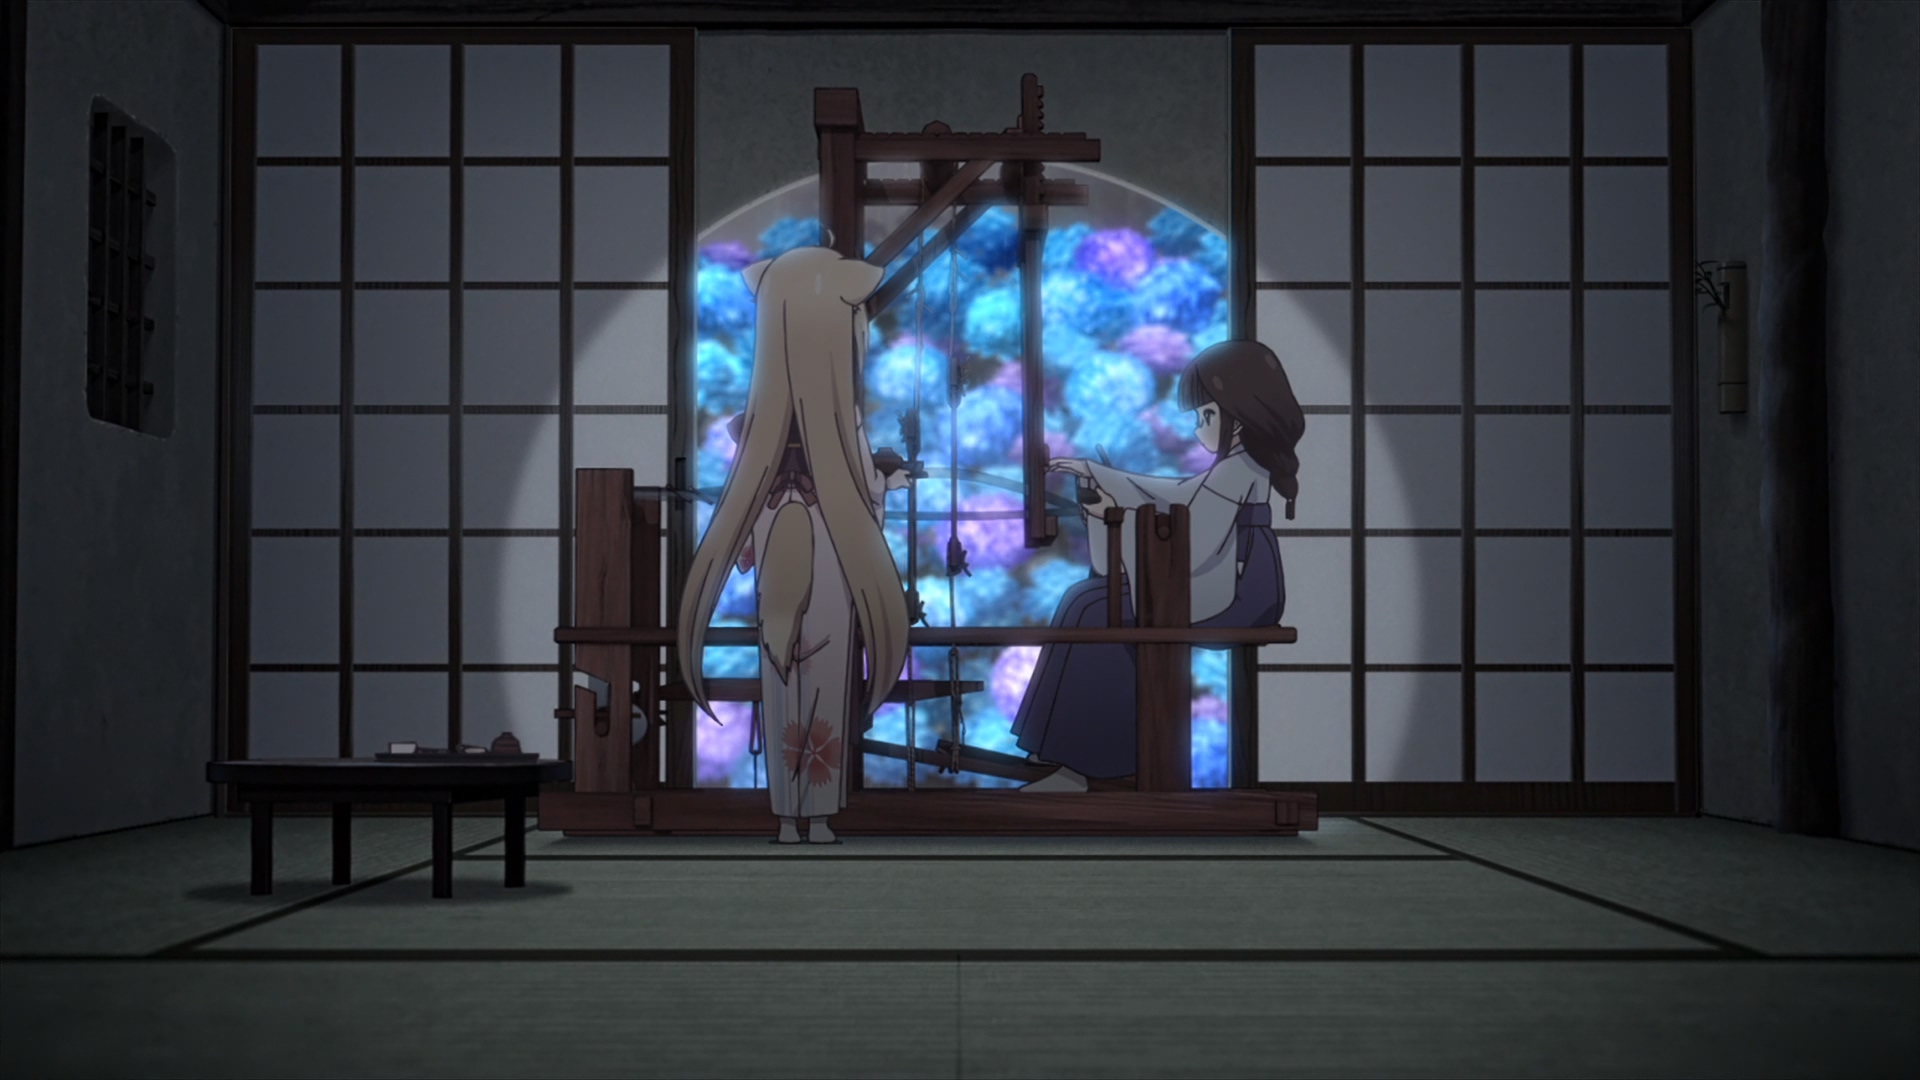其他: (1010, 340, 1305, 791)
柚: (678, 229, 916, 845)
